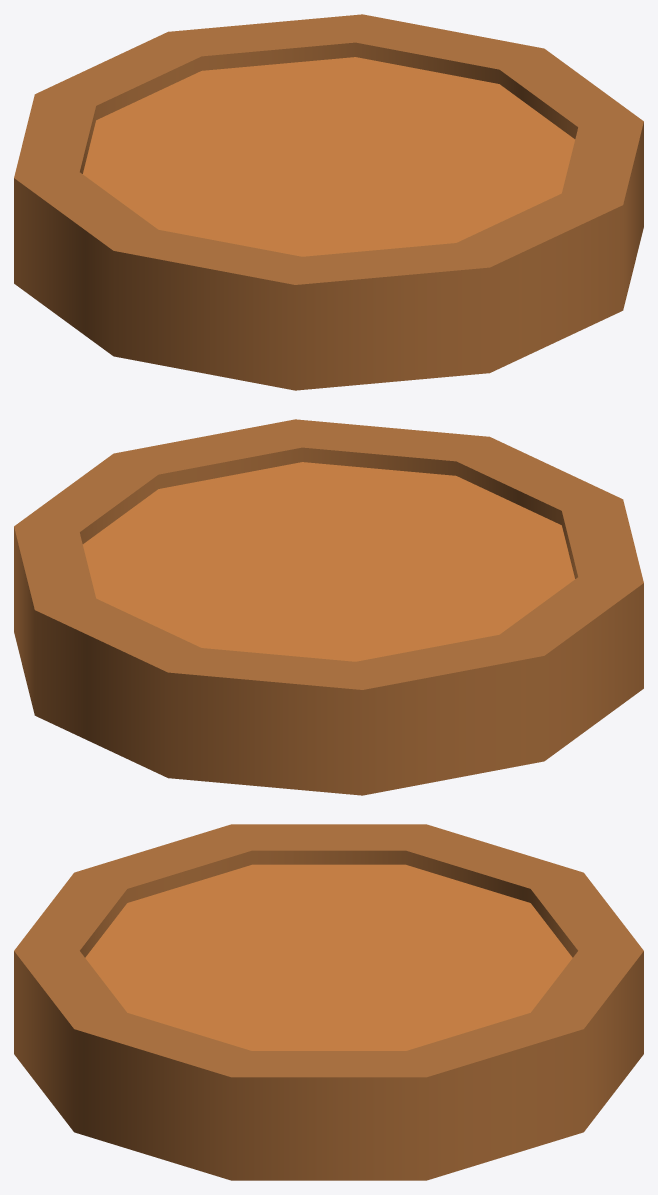
The model's file is Coin_01.fbx.
3 views of the same model, one above another, from view 1: azimuth 30°, elevation 25°; view 2: azimuth 150°, elevation 25°; view 3: azimuth 270°, elevation 25° (orthographic). The views are drawn at different scales.
Visible parts, largest first — view 1: Coin_01; view 2: Coin_01; view 3: Coin_01.
Part boxes in pixels (bbox=[...]): Coin_01: bbox=[14, 14, 643, 390]; Coin_01: bbox=[14, 419, 643, 795]; Coin_01: bbox=[14, 824, 643, 1180].
Bounding box in the file's own units: 0.0413 × 0.00786 × 0.0435.
